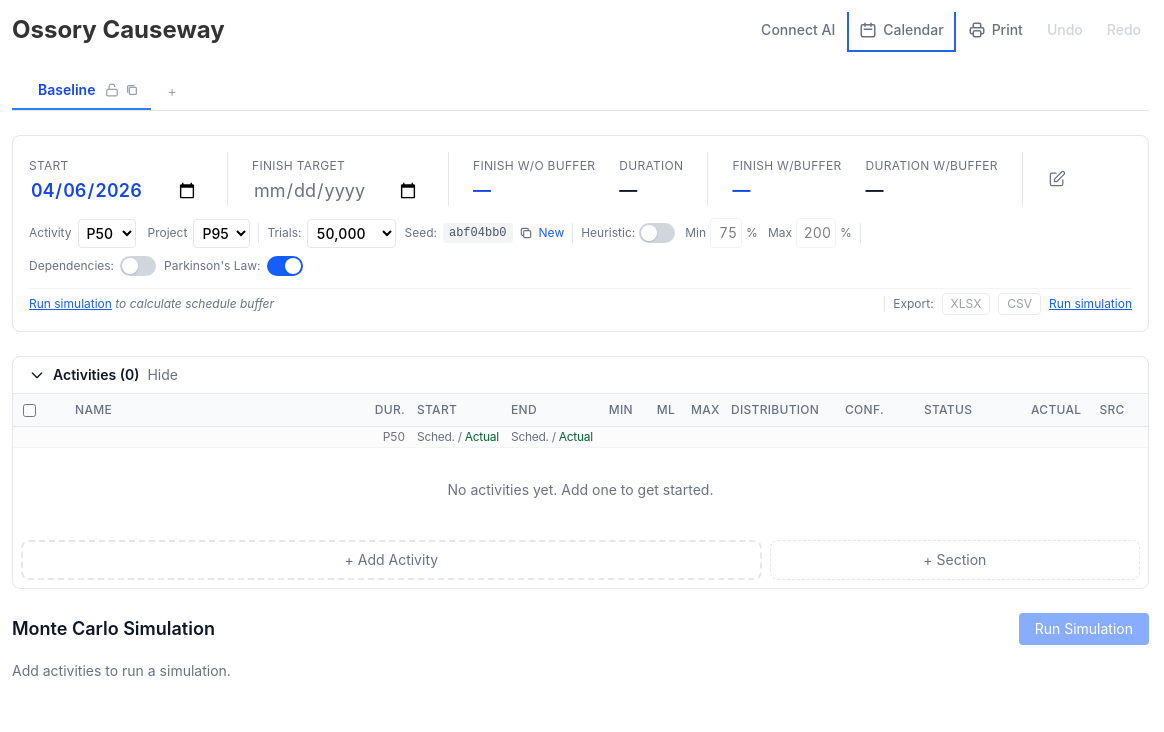
WI-174: a project's Calendar link (D7) › following it opens the Calendar page with that project's row open, in view and focused, and the others closed
The width and height of the screenshot is (1164, 732).
Click the link with aria-label "Calendar for this project". click: [901, 30]
box: left=859, top=21, right=944, bottom=39
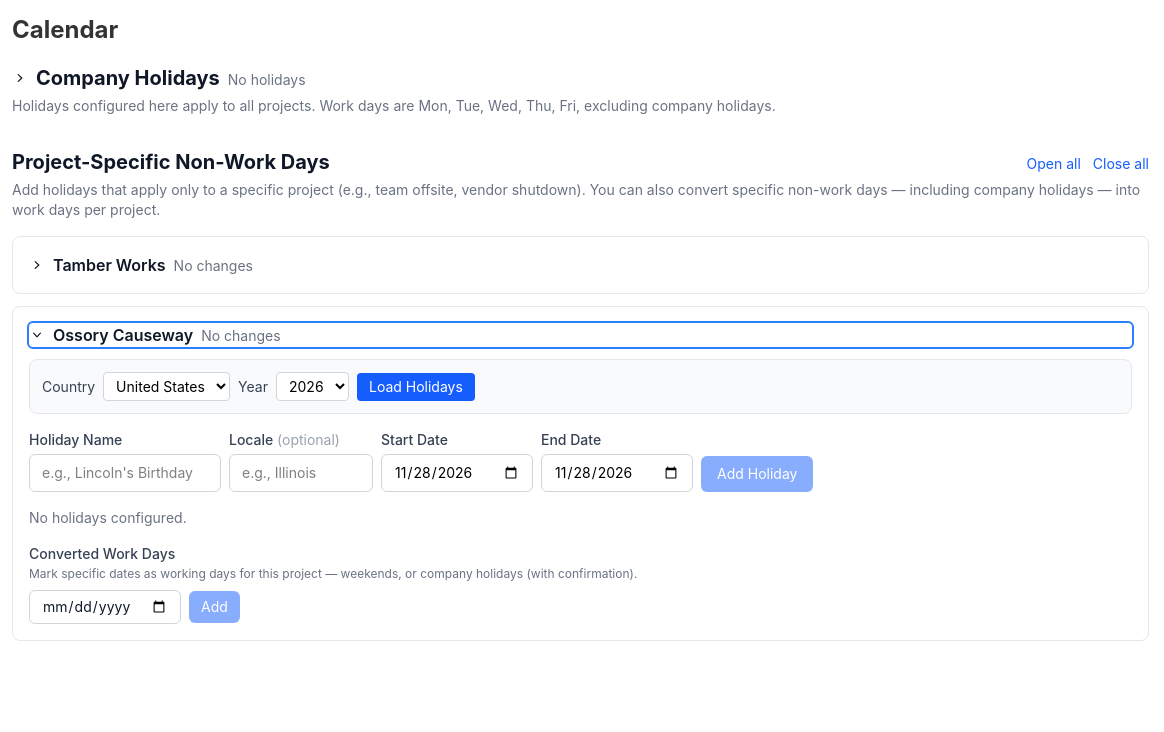
Expected: the heading "Calendar" is shown, left=12, top=15, right=118, bottom=44
